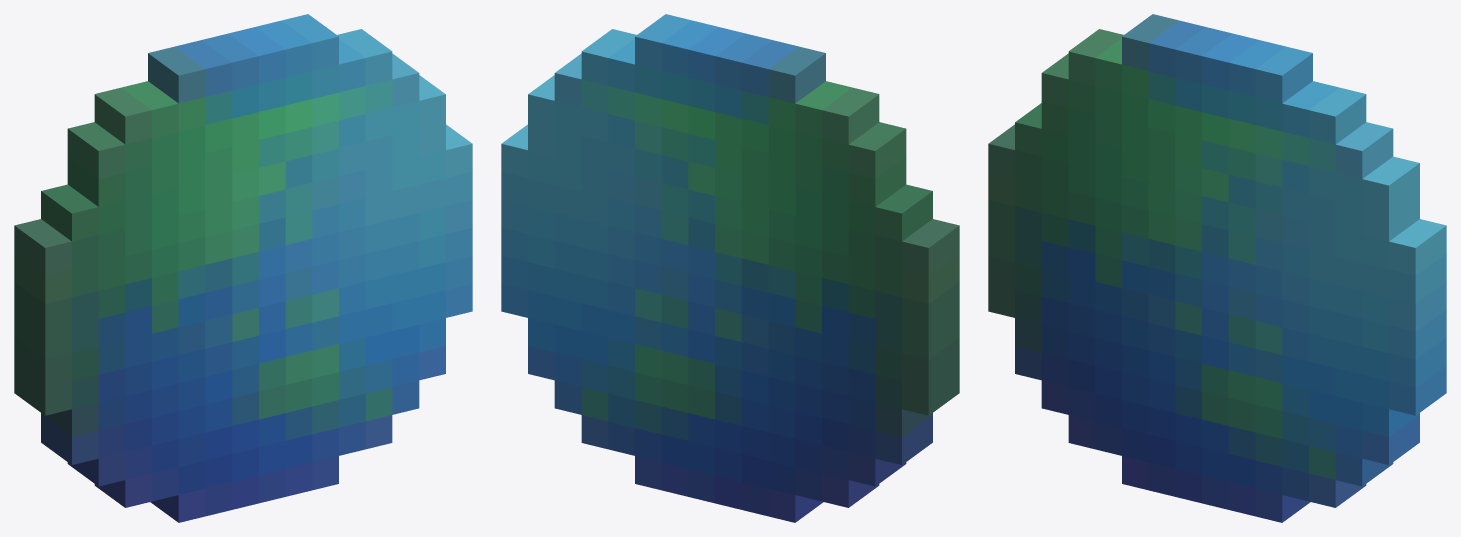
The model's file is globe.glb.
3 renders of one model, left to right at view 1: azimuth 30°, elevation 25°; view 2: azimuth 150°, elevation 25°; view 3: azimuth 330°, elevation 25°, orthographic.
Parts seen in each view (by area): view 1: prop; view 2: prop; view 3: prop.
Boxes of the visible parts, x1,y1,x2,y2 form: prop: (14,14,472,522); prop: (501,14,959,522); prop: (988,14,1446,522).
Bounding box in the file's own units: 16 × 16 × 2.
